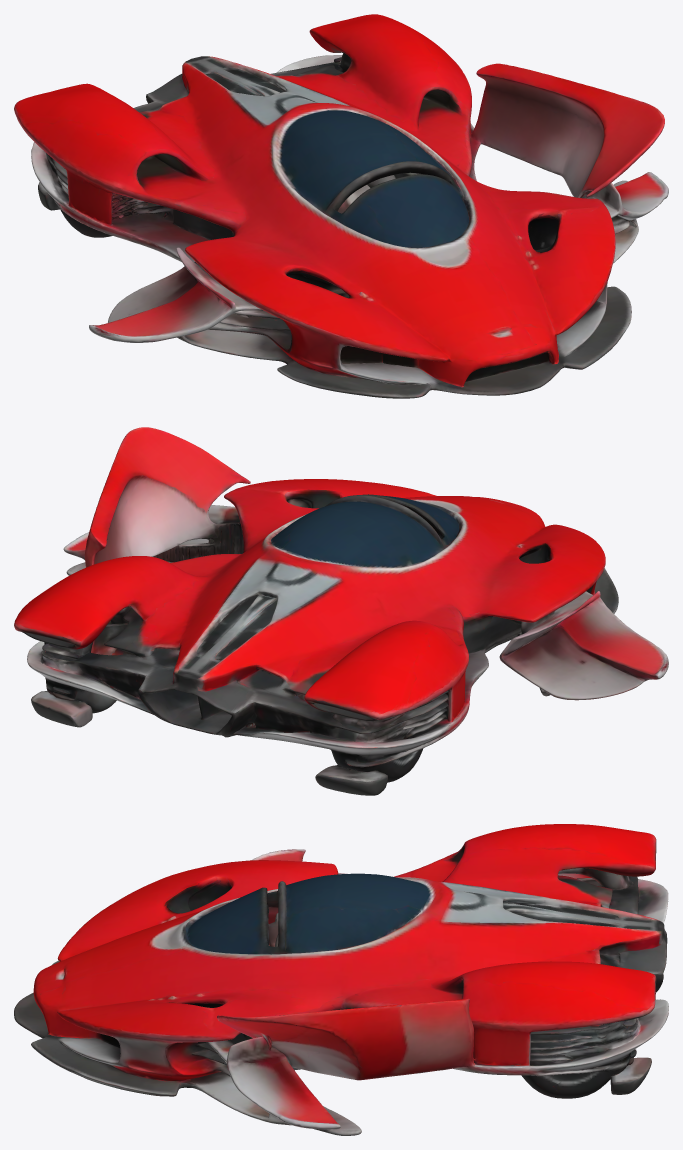
The model's file is racer.glb.
3 views of the same model, one above another, from view 1: azimuth 30°, elevation 25°; view 2: azimuth 150°, elevation 25°; view 3: azimuth 270°, elevation 25° (orthographic). The views are drawn at different scales.
Bounding box in the file's own units: 1 × 0.2394 × 1.
1 material, 1 textured.
